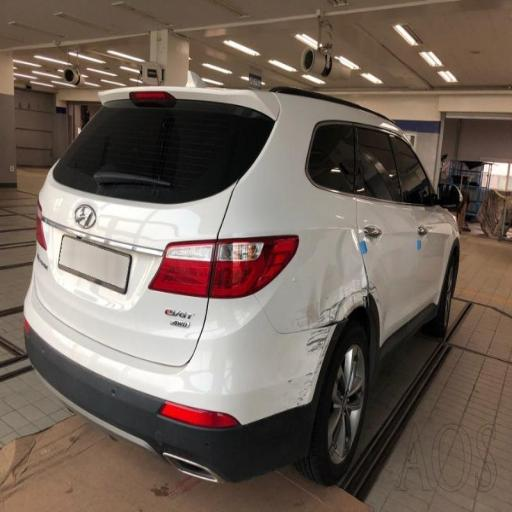scratch: (267, 237, 400, 415)
